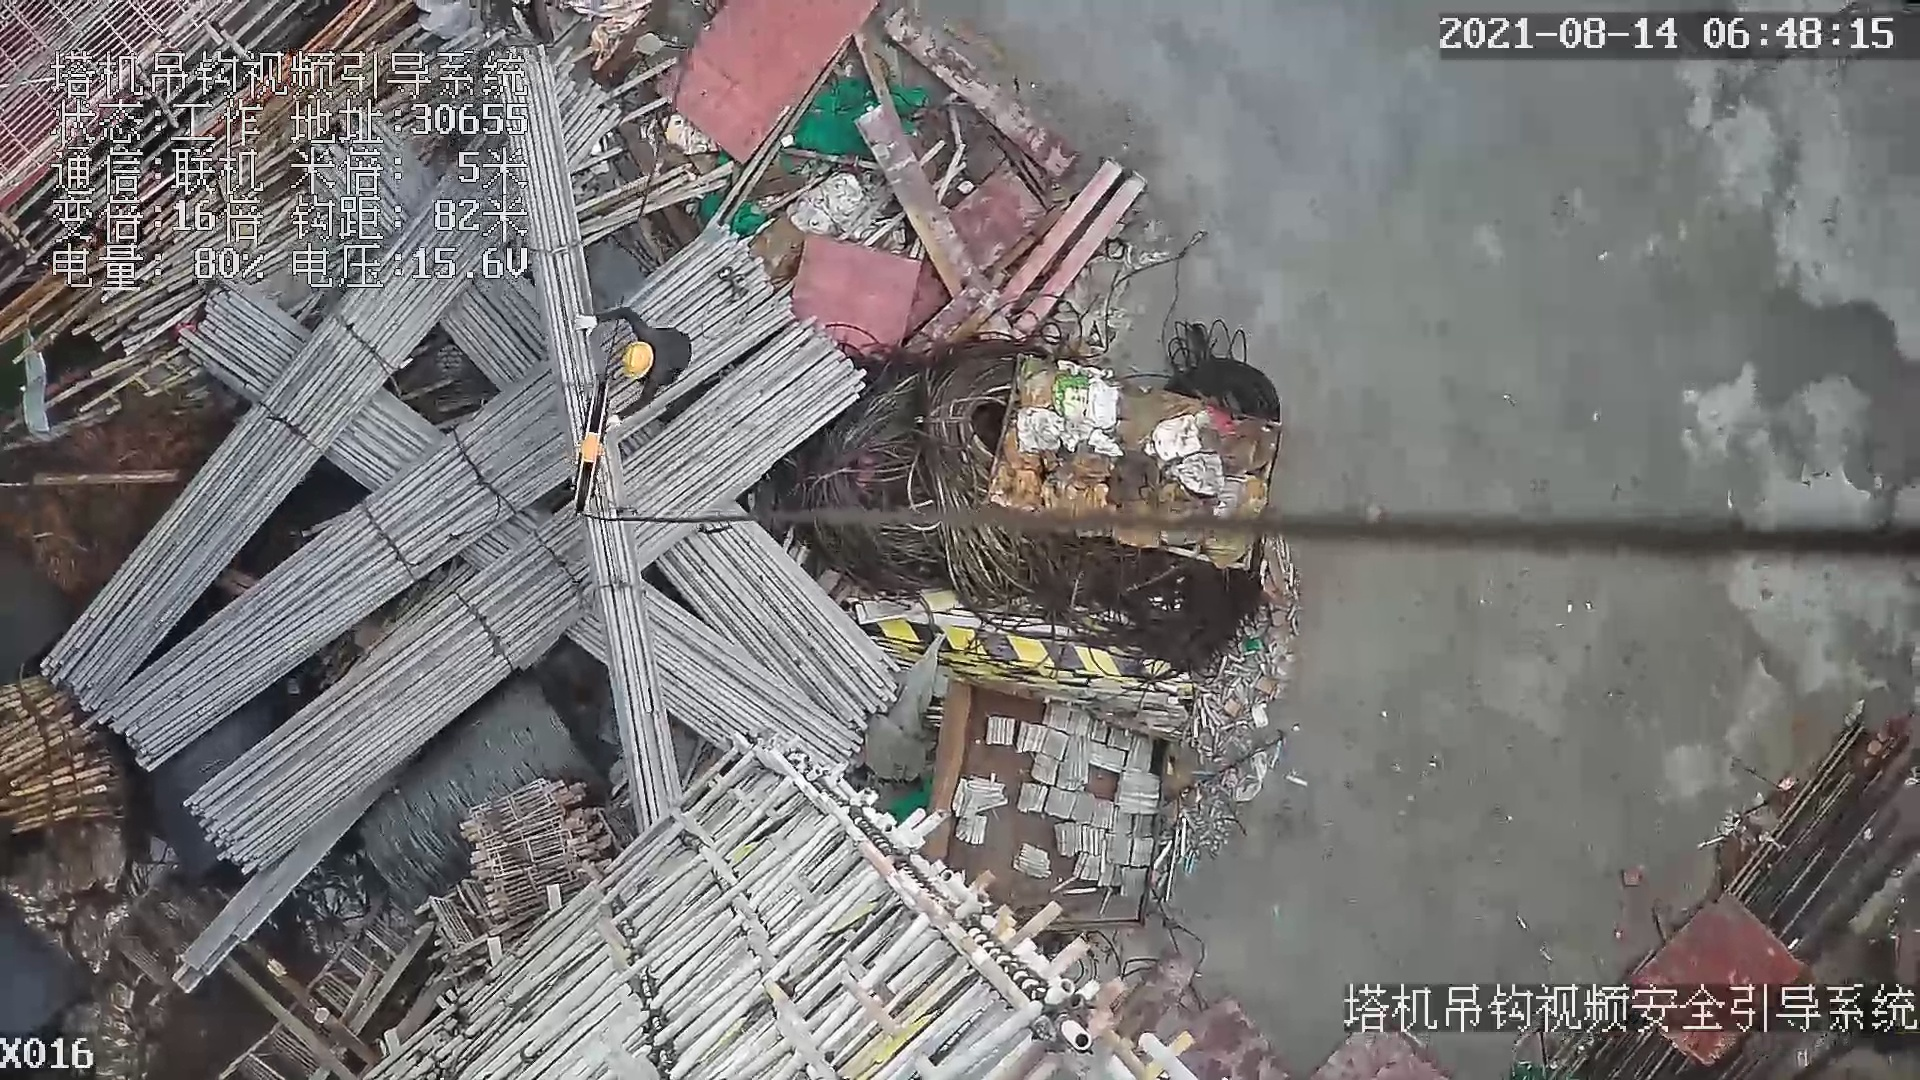board: (664, 4, 882, 174)
helmet: (623, 343, 658, 382)
hook: (569, 373, 610, 517)
person: (572, 301, 696, 430)
scaffold: (3, 679, 129, 832)
